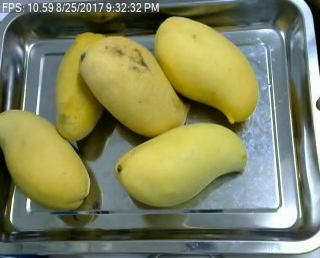Mango: (79, 35, 189, 138), (154, 16, 259, 122), (115, 123, 246, 206), (0, 110, 90, 211), (54, 32, 115, 140)
